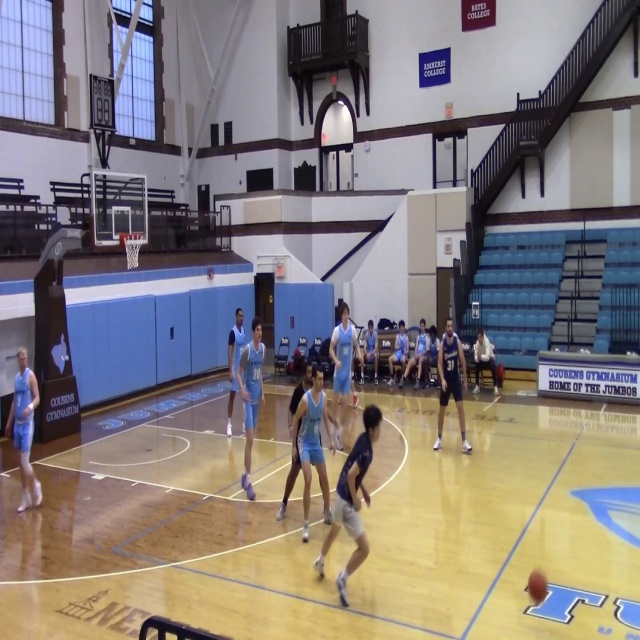Basketball: (527, 568, 548, 601)
